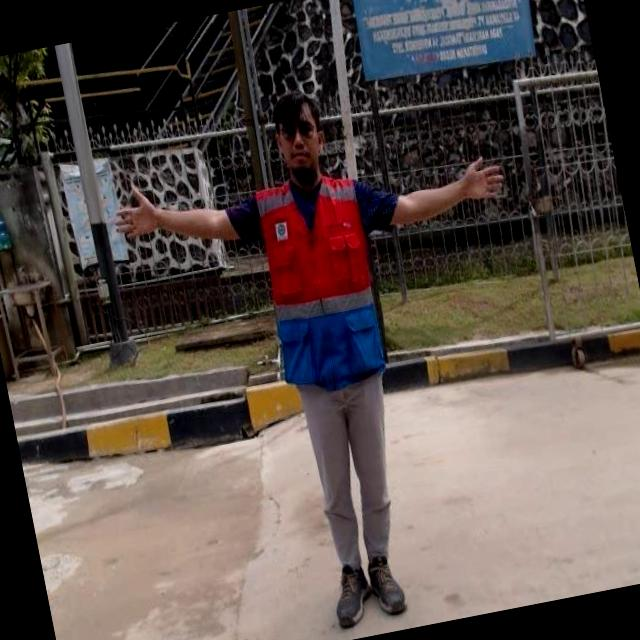no-boots: (324, 558, 377, 632), (363, 550, 408, 623)
no-gloves: (427, 150, 531, 230), (90, 163, 179, 256)
no-helmet: (258, 79, 344, 194)
vest: (249, 168, 393, 390)
